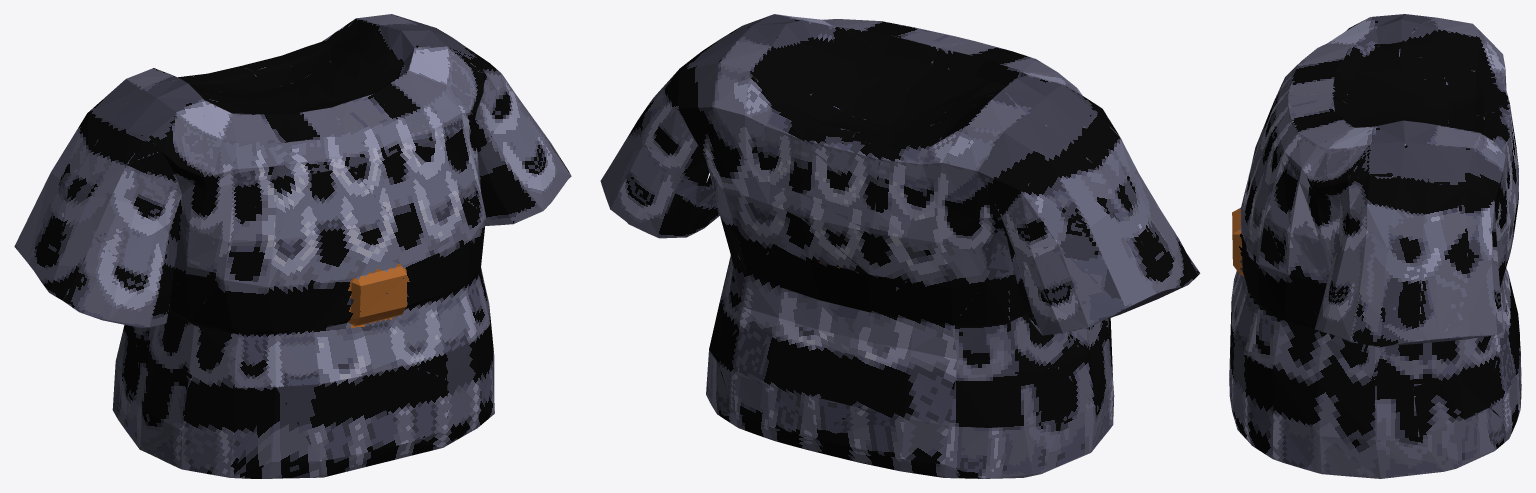
3 renders of one model, left to right at view 1: azimuth 30°, elevation 25°; view 2: azimuth 150°, elevation 25°; view 3: azimuth 270°, elevation 25°, orthographic. The views are drawn at different scales.
Visible parts, largest first — view 1: OBJ021; view 2: OBJ021; view 3: OBJ021.
Boxes of the visible parts, x1,y1,x2,y2 form: OBJ021: (14,14,571,478); OBJ021: (600,14,1200,478); OBJ021: (1229,14,1521,478).
Size of the model in its own units: 0.3136 by 0.2041 by 0.1601.
1 material, 1 textured.
